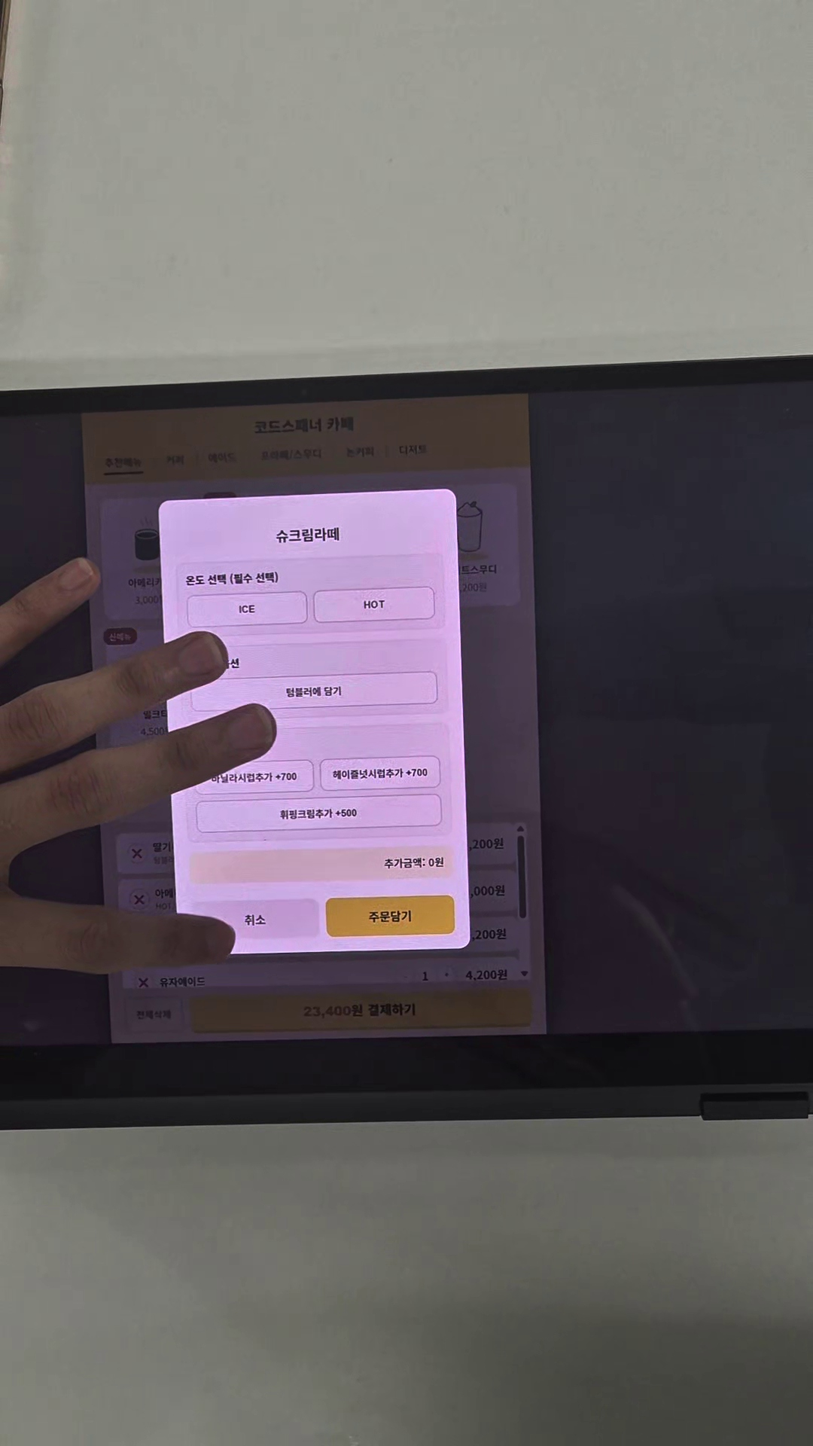action_button: (323, 896, 457, 941), (192, 898, 319, 943)
option_button: (192, 795, 442, 834), (188, 674, 436, 710), (312, 587, 432, 623), (185, 591, 307, 625), (324, 757, 440, 790), (191, 760, 318, 790)
popup_modal: (161, 487, 467, 952)
